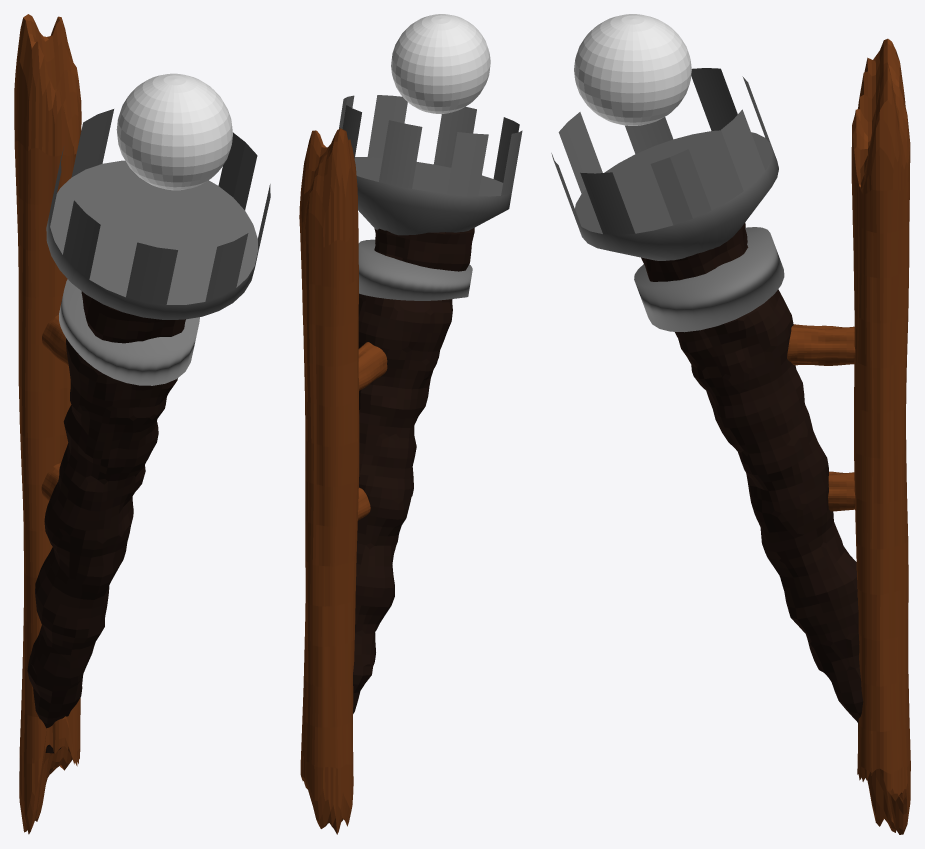
Rendered from egypt_torch.fbx.
The picture shows the model from 3 angles, left to right: view 1: azimuth 30°, elevation 25°; view 2: azimuth 150°, elevation 25°; view 3: azimuth 270°, elevation 25°; orthographic projection. The views are drawn at different scales.
Parts seen in each view (by area): view 1: Cylinder, Cylinder.001, Cylinder.003, Sphere, Cylinder.002, Cylinder.008; view 2: Cylinder, Cylinder.001, Cylinder.003, Sphere, Cylinder.002, Cylinder.008; view 3: Cylinder, Cylinder.001, Cylinder.003, Sphere, Cylinder.002, Cylinder.008, Cylinder.007.
Boxes of the visible parts, box(x1,y1,x2,y2) form: Cylinder: box(14, 14, 81, 834); Cylinder.001: box(27, 291, 185, 753); Cylinder.003: box(46, 109, 270, 319); Sphere: box(116, 73, 232, 190); Cylinder.002: box(59, 279, 199, 385); Cylinder.008: box(42, 315, 68, 366); Cylinder: box(299, 128, 359, 834); Cylinder.001: box(353, 228, 474, 713); Cylinder.003: box(339, 95, 522, 235); Sphere: box(391, 14, 490, 113); Cylinder.002: box(358, 239, 472, 300); Cylinder.008: box(358, 342, 387, 390); Cylinder: box(851, 38, 910, 834); Cylinder.001: box(641, 222, 863, 723); Cylinder.003: box(551, 68, 778, 260); Sphere: box(574, 14, 691, 125); Cylinder.002: box(634, 227, 784, 332); Cylinder.008: box(787, 324, 855, 365); Cylinder.007: box(828, 471, 855, 511).
Bounding box in the file's own units: 81.92 × 362 × 144.
